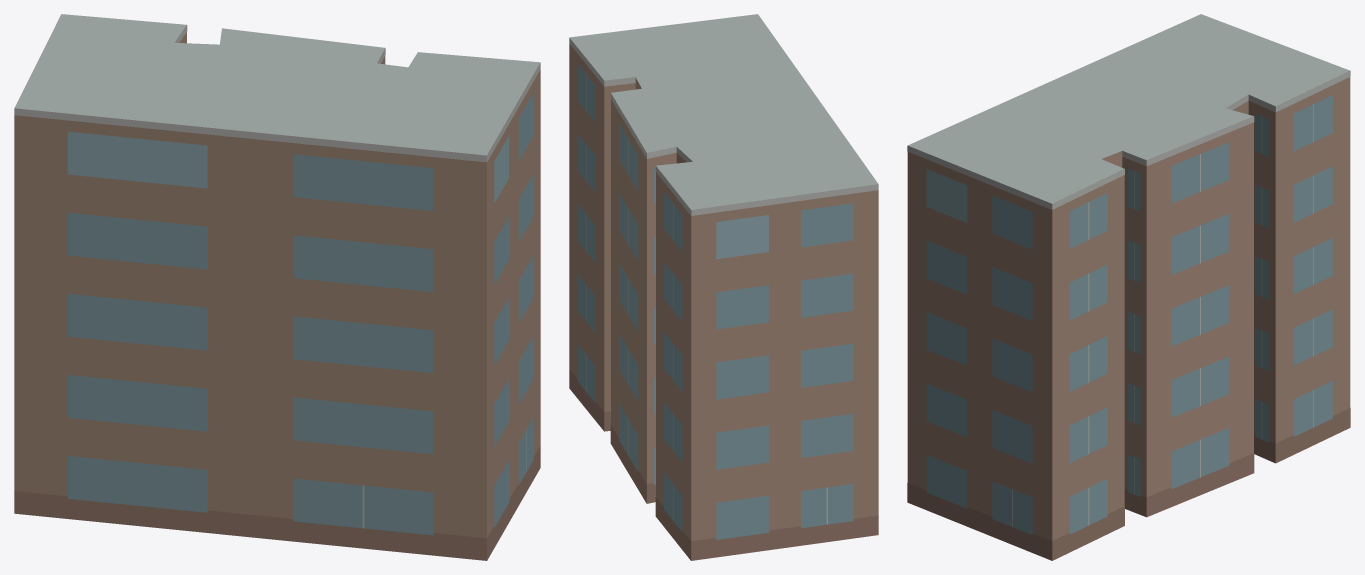
The model's file is survey-upis-32996685.glb.
3 views of the same model, side by side, from view 1: azimuth 30°, elevation 25°; view 2: azimuth 150°, elevation 25°; view 3: azimuth 270°, elevation 25° (orthographic). The views are drawn at different scales.
Parts seen in each view (by area): view 1: survey-upis-32996685.tmp; view 2: survey-upis-32996685.tmp; view 3: survey-upis-32996685.tmp.
Part boxes in pixels (x1,y1,x2,y2): survey-upis-32996685.tmp: (14,14,540,560); survey-upis-32996685.tmp: (569,14,878,560); survey-upis-32996685.tmp: (907,14,1350,560).
Bounding box in the file's own units: 16.43 × 14.4 × 16.2.
